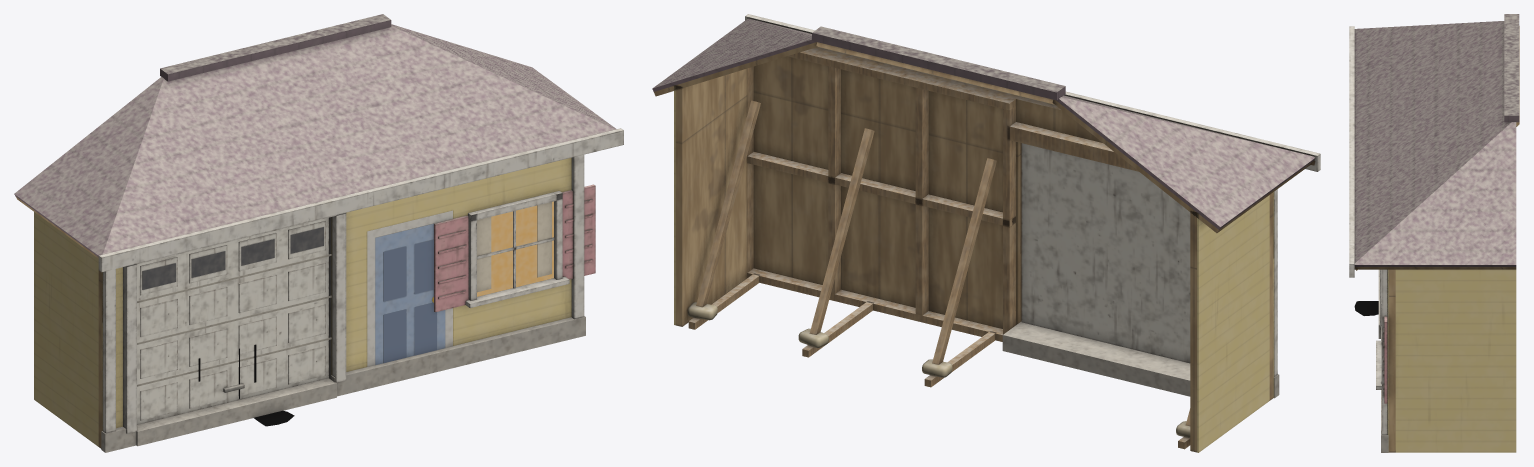
The model's file is house_garage.fbx.
3 views of the same model, side by side, from view 1: azimuth 30°, elevation 25°; view 2: azimuth 150°, elevation 25°; view 3: azimuth 270°, elevation 25° (orthographic). The views are drawn at different scales.
Parts seen in each view (by area): view 1: Body, Door, Glow; view 2: Body, Door; view 3: Body.
Boxes of the visible parts, left/top/right/bottom form: Body: left=14, top=14, right=623, bottom=452; Door: left=137, top=217, right=331, bottom=424; Glow: left=477, top=201, right=553, bottom=296; Body: left=652, top=14, right=1320, bottom=452; Door: left=1021, top=143, right=1190, bottom=363; Body: left=1349, top=14, right=1519, bottom=452.
Size of the model in its own units: 26.2 by 14.32 by 7.94.
Materials: 1 (1 with a texture image).
